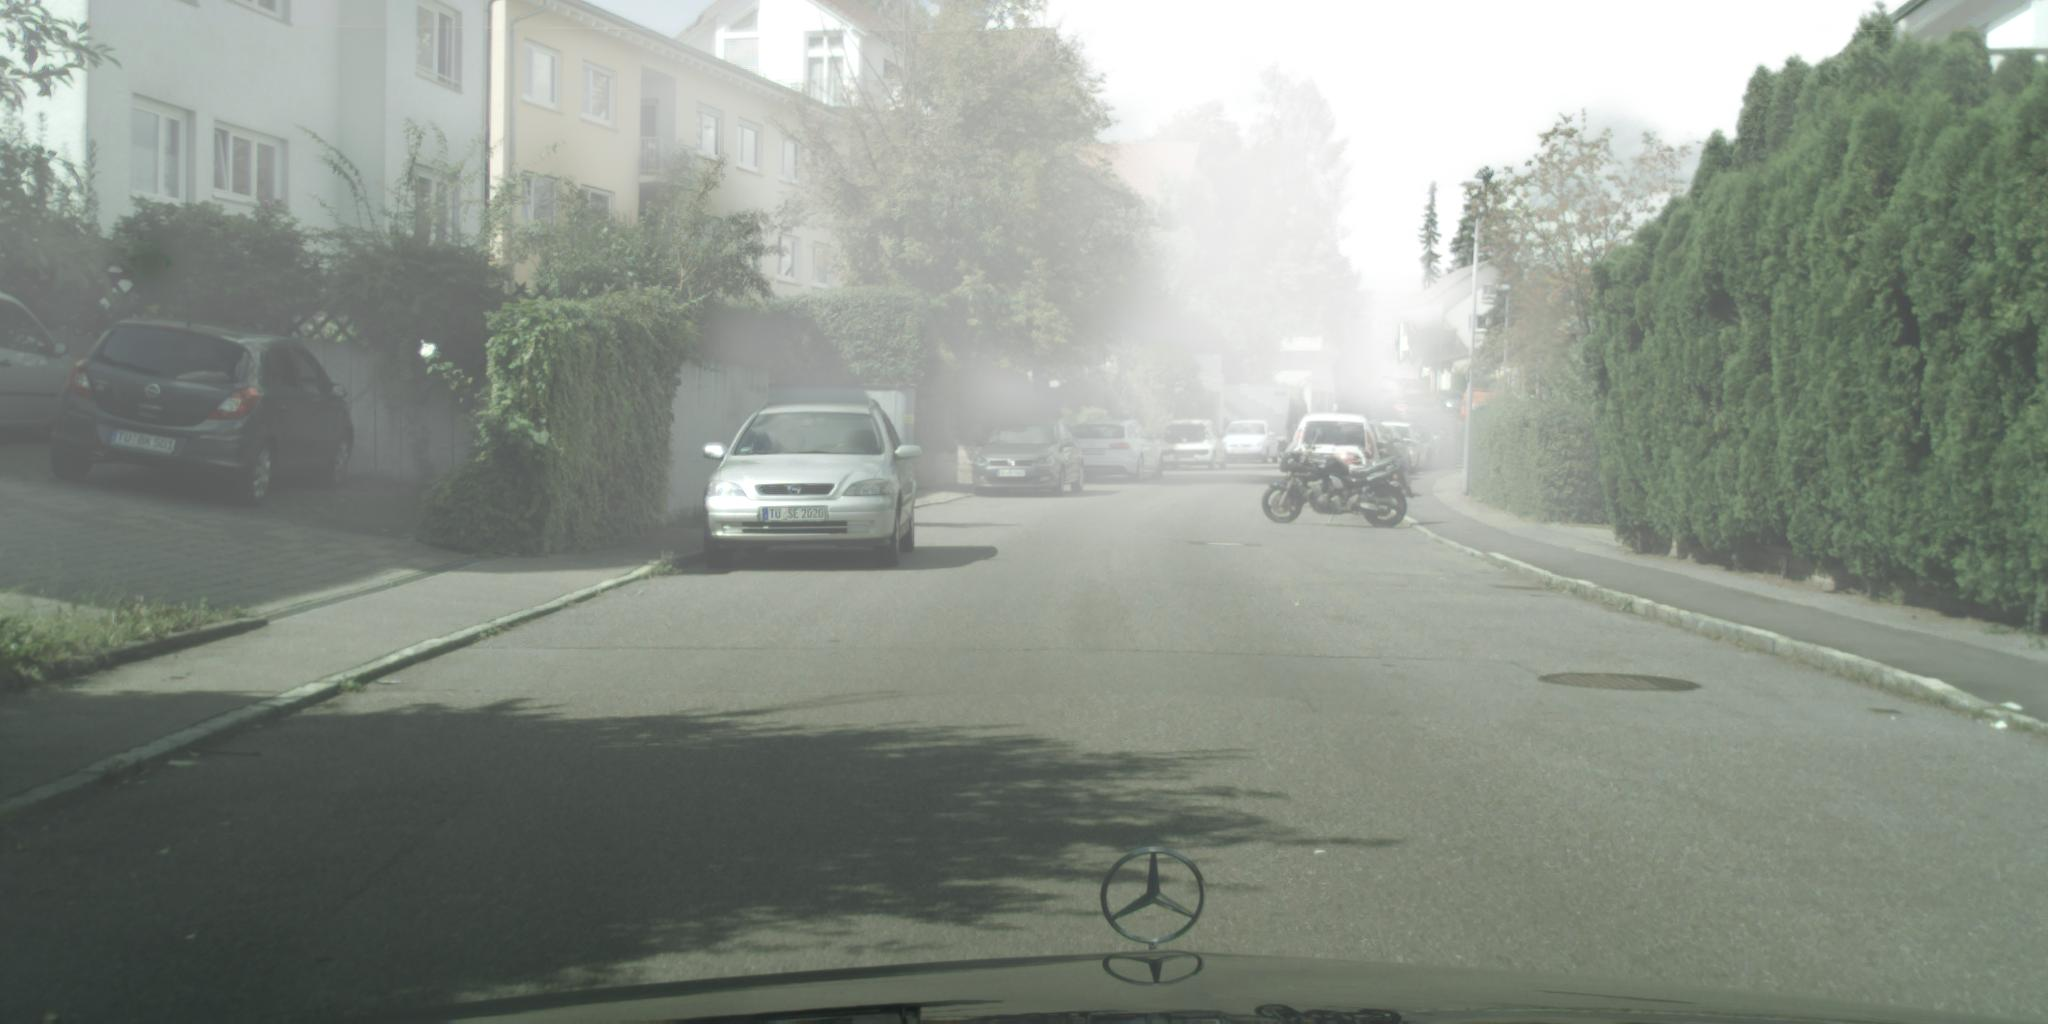car: (51, 315, 358, 508), (701, 401, 923, 573), (1, 293, 90, 435), (973, 418, 1085, 498), (1287, 414, 1386, 485), (1068, 421, 1166, 486), (1159, 421, 1230, 474), (1377, 423, 1435, 474), (1364, 424, 1413, 481), (1220, 421, 1280, 465), (1412, 417, 1462, 466), (1360, 423, 1405, 474), (1405, 424, 1446, 472), (1422, 424, 1456, 468), (1371, 377, 1405, 411), (1378, 397, 1412, 421), (1368, 408, 1403, 428), (1434, 392, 1464, 415)
motorcycle: (1260, 441, 1417, 529)
